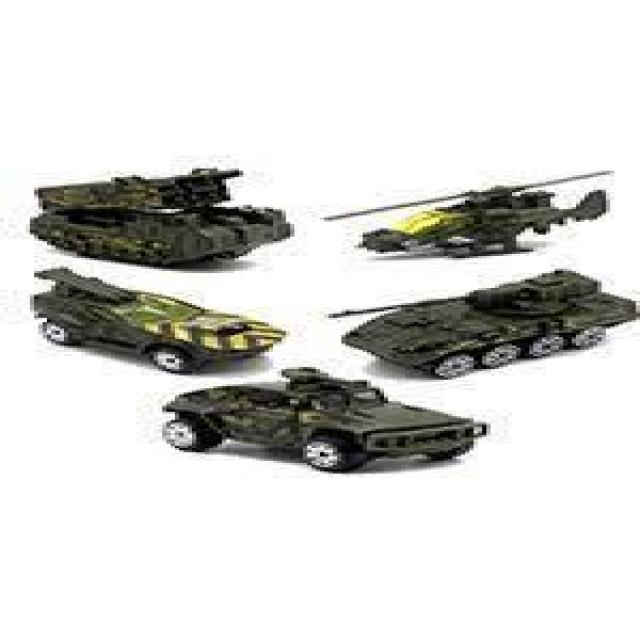Tanks: (354, 262, 636, 369), (23, 152, 296, 262)
